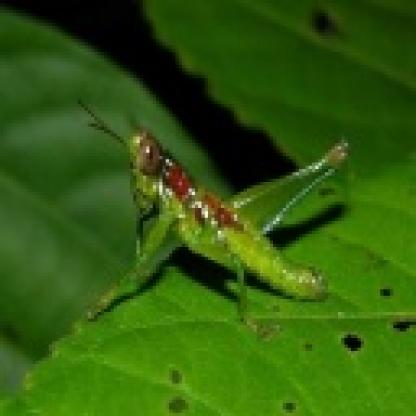grasshopper: (96, 106, 353, 330)
